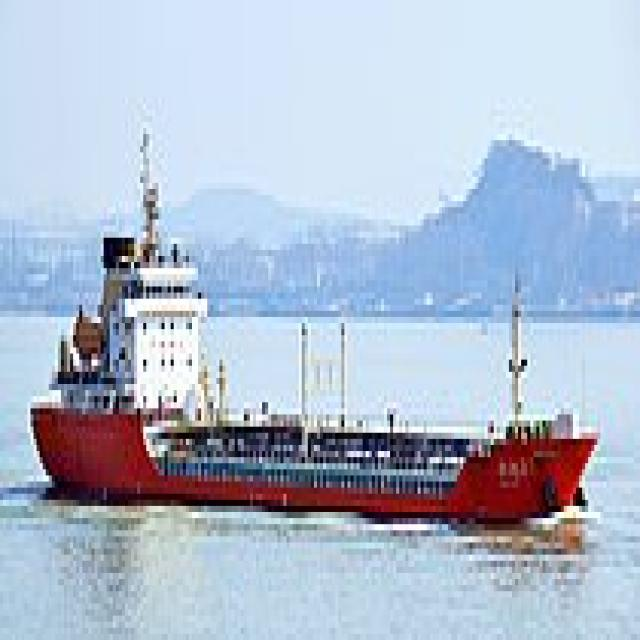Tanker: (24, 122, 600, 518)
